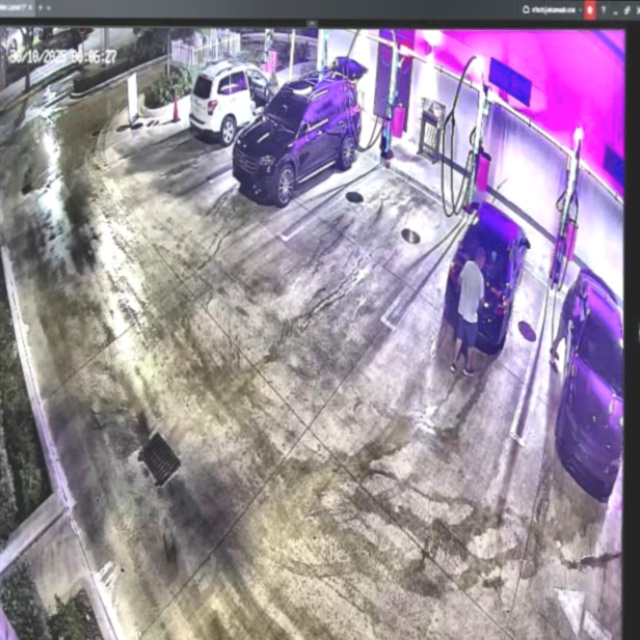Car: (231, 66, 363, 201), (446, 196, 531, 355), (189, 56, 285, 147)
